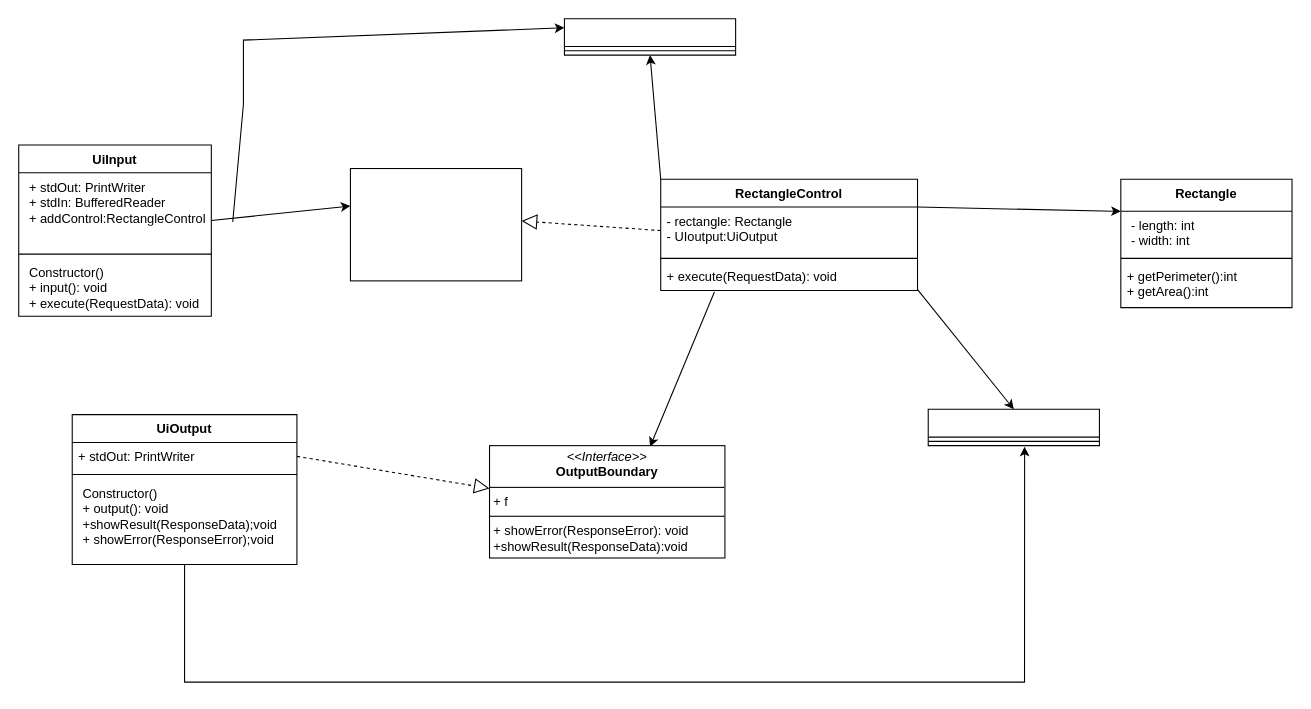
This 1311x709 diagram has some shape labels left out. The shapes that lost their labels are listed below. From the top down, each one's centre as x and y in pixels, then its label:
pixel 649 36: RequestData
pixel 435 224: <<Interface>> InputBoundary + f + execute(RequestData): void
pixel 1013 427: ResponseData
